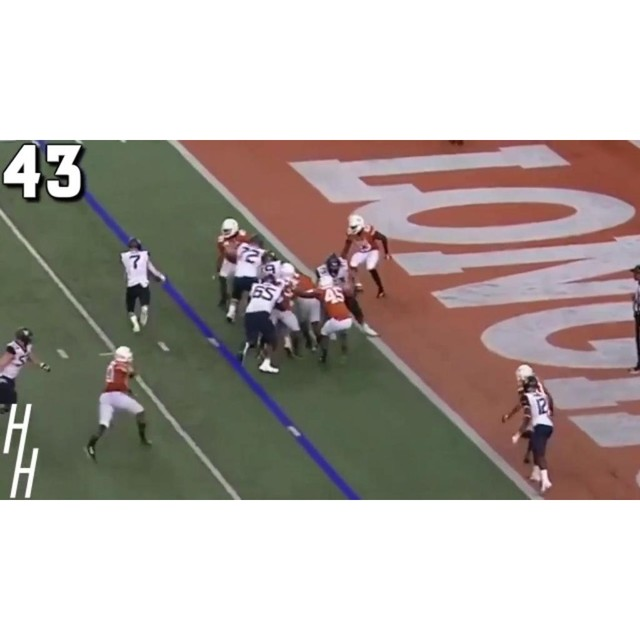american-football-player: (86, 345, 152, 461), (508, 371, 555, 497), (236, 268, 283, 375), (117, 234, 167, 334), (342, 215, 391, 298), (225, 236, 269, 327), (313, 277, 355, 366), (0, 326, 42, 413), (212, 221, 247, 312)
referee: (626, 267, 640, 373)
